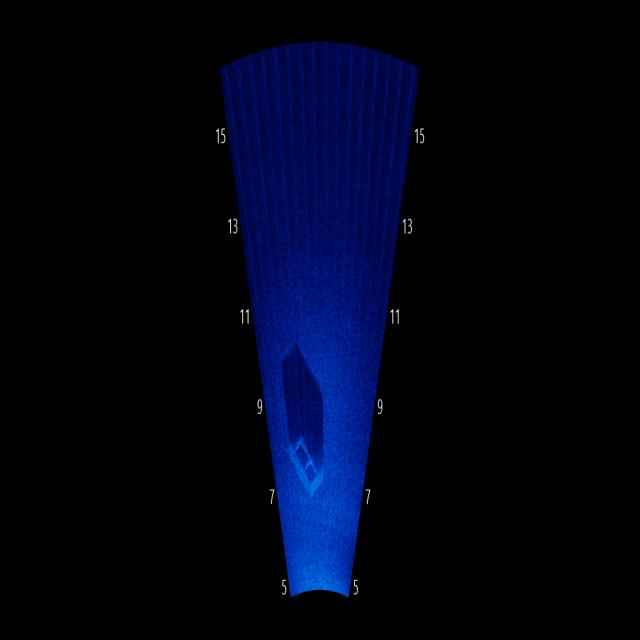square: (284, 416, 334, 507)
